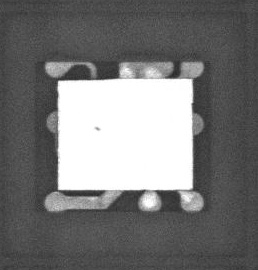DIE_INK: (89, 131, 97, 137)
